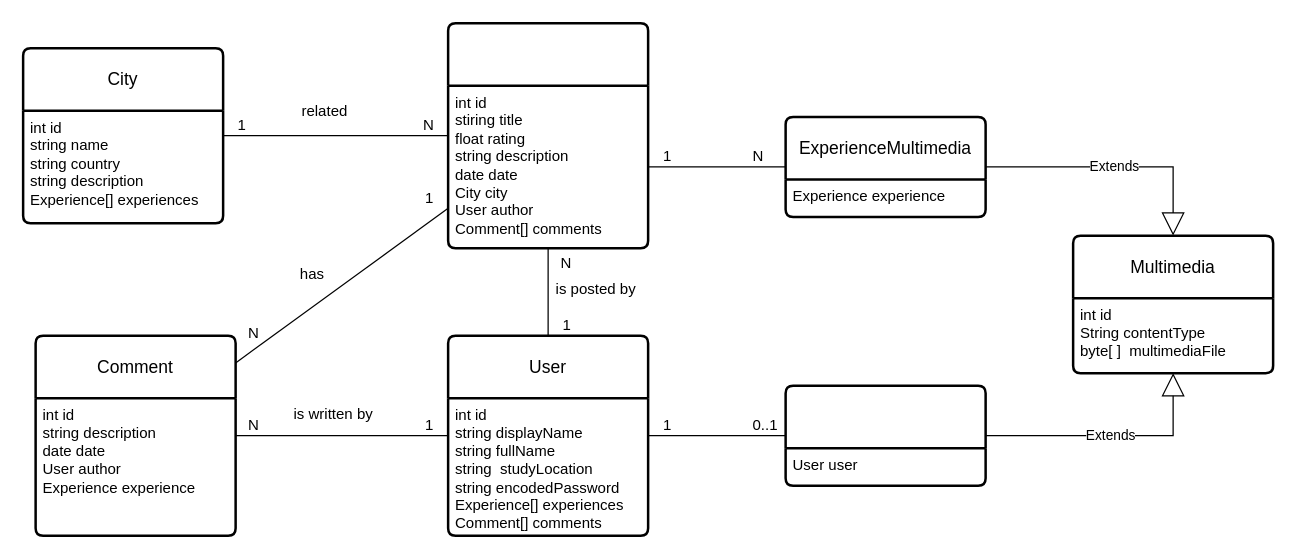
Image size: 1295x558. Some labels were removed from this diagram. Here are the shapes that lost their labels. From the top down, the box of each, then its label:
(446, 21, 649, 249): Experience
(784, 384, 986, 486): UserImage
